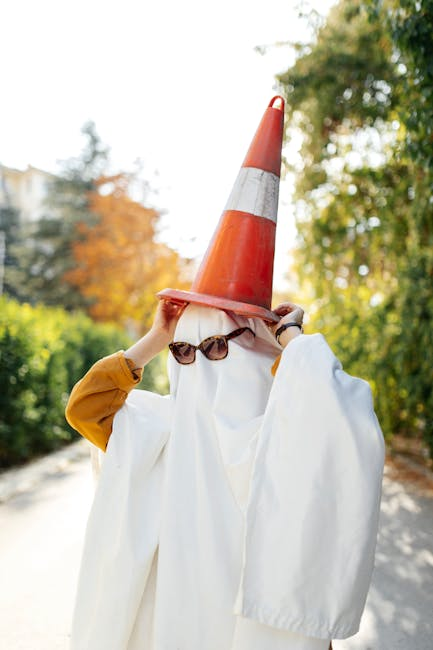traffic_cone: (155, 94, 287, 324)
